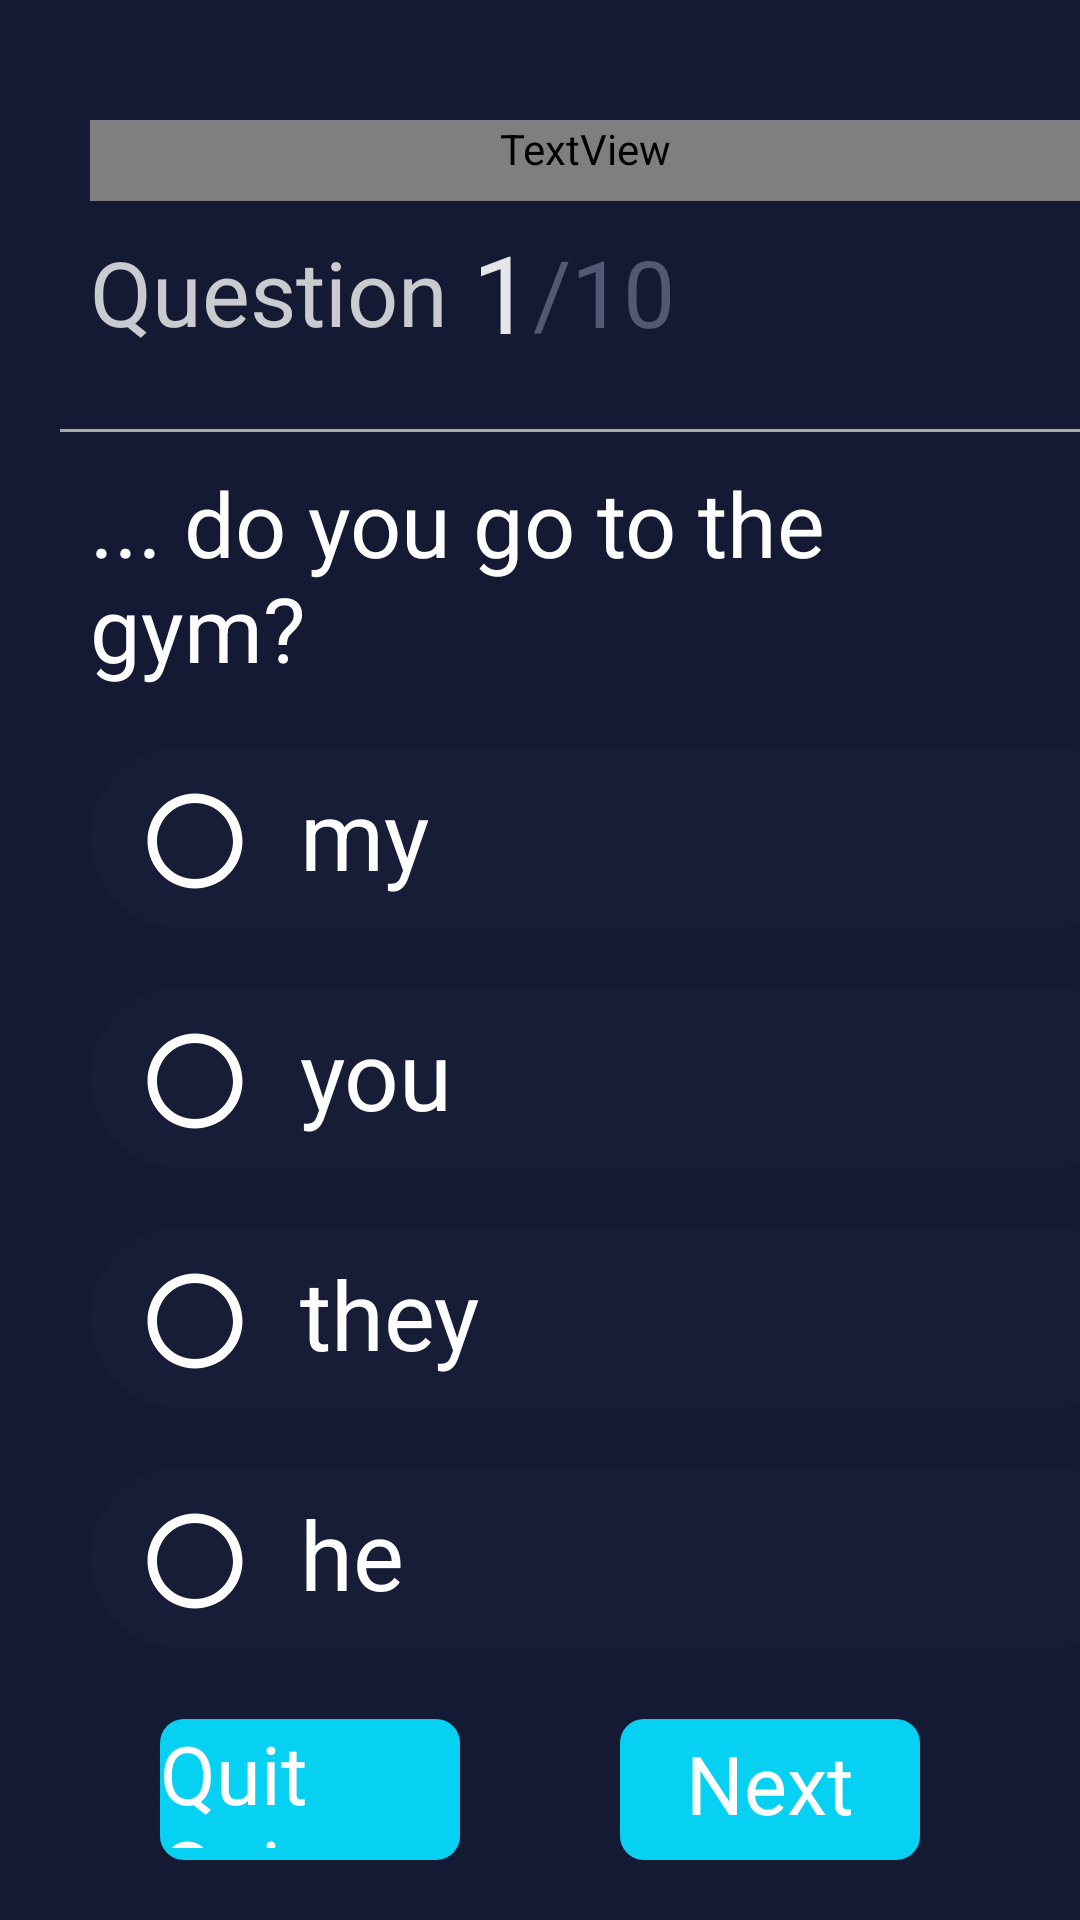

Icons on this 1080×1920 Android screen, each with its box as (x1,y1,x2,y2):
empty check: (147,793,243,889), (147,1033,243,1129), (147,1273,243,1369), (147,1513,243,1609)
